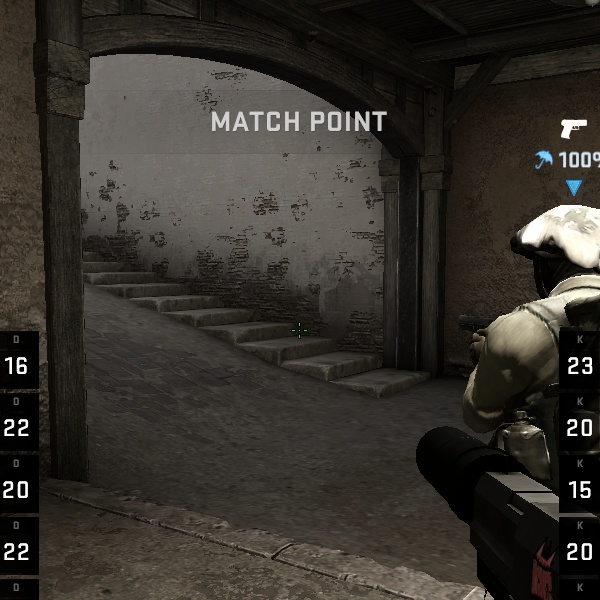ct_body: (426, 181, 594, 600)
ct_head: (505, 193, 593, 317)
